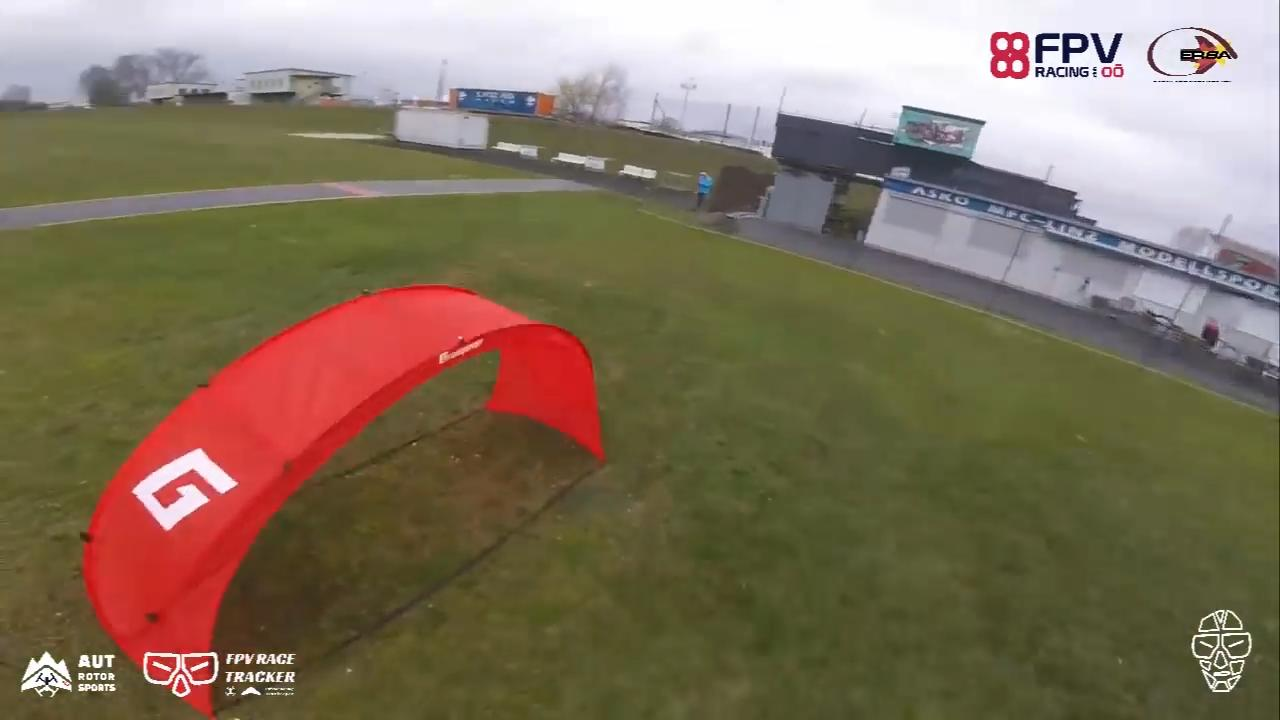gate: (84, 279, 605, 710)
